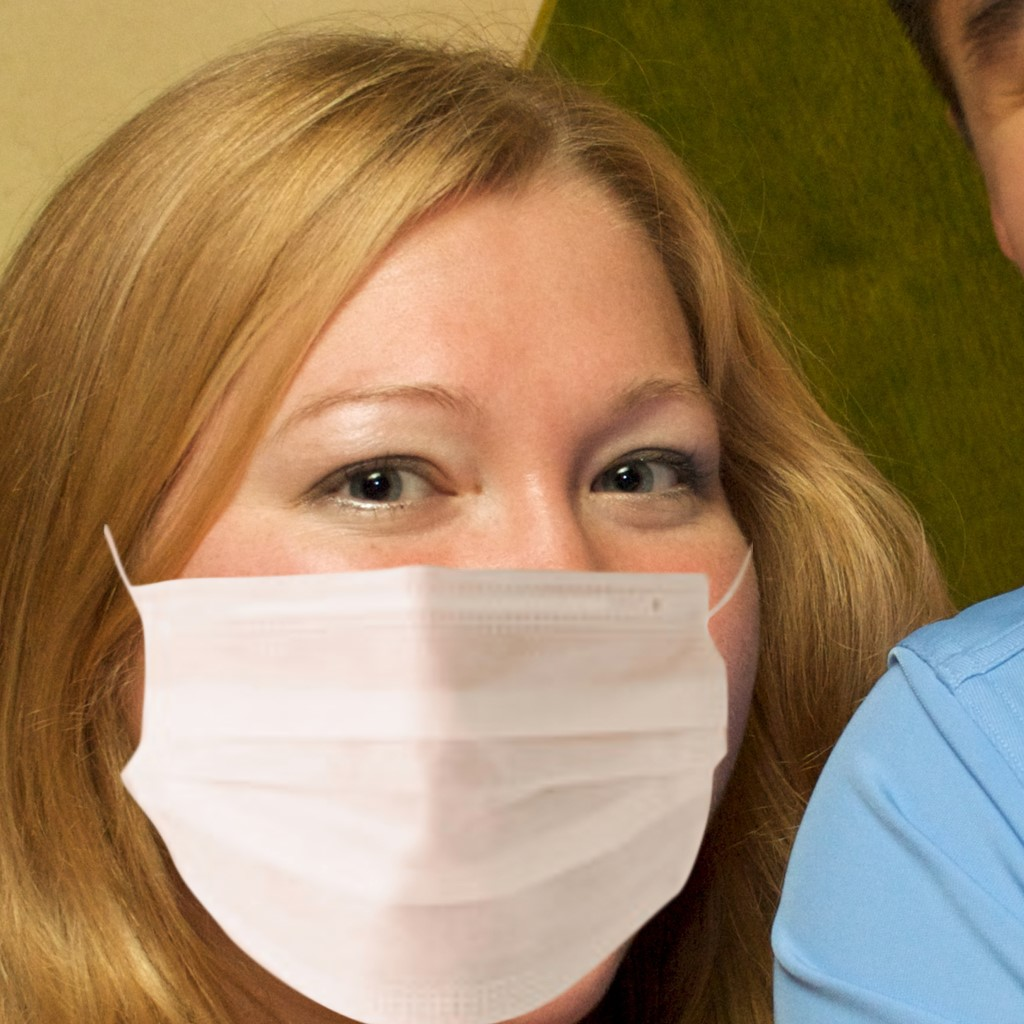con_mascara: (67, 168, 789, 1013)
